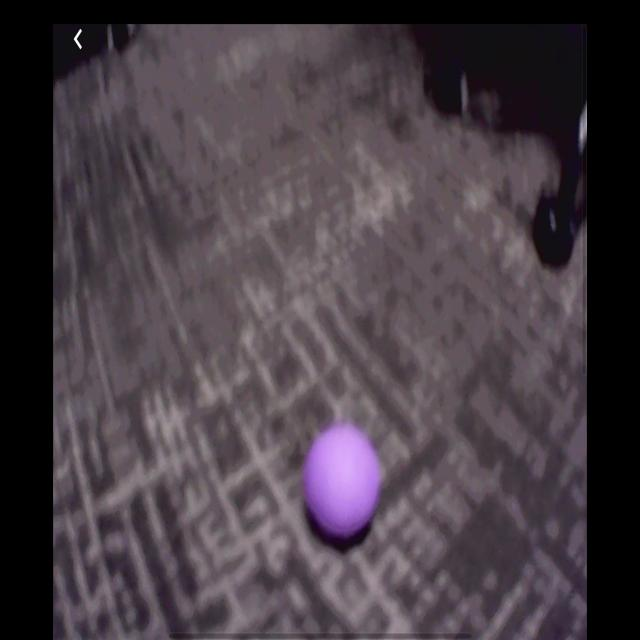ball: (302, 422, 383, 544)
